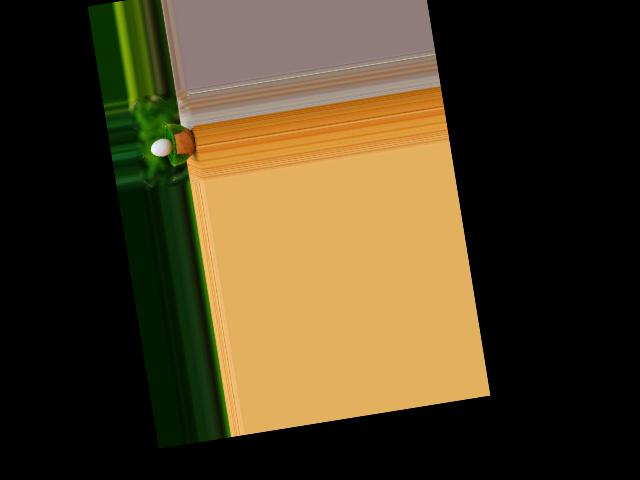egg: (149, 136, 174, 157)
